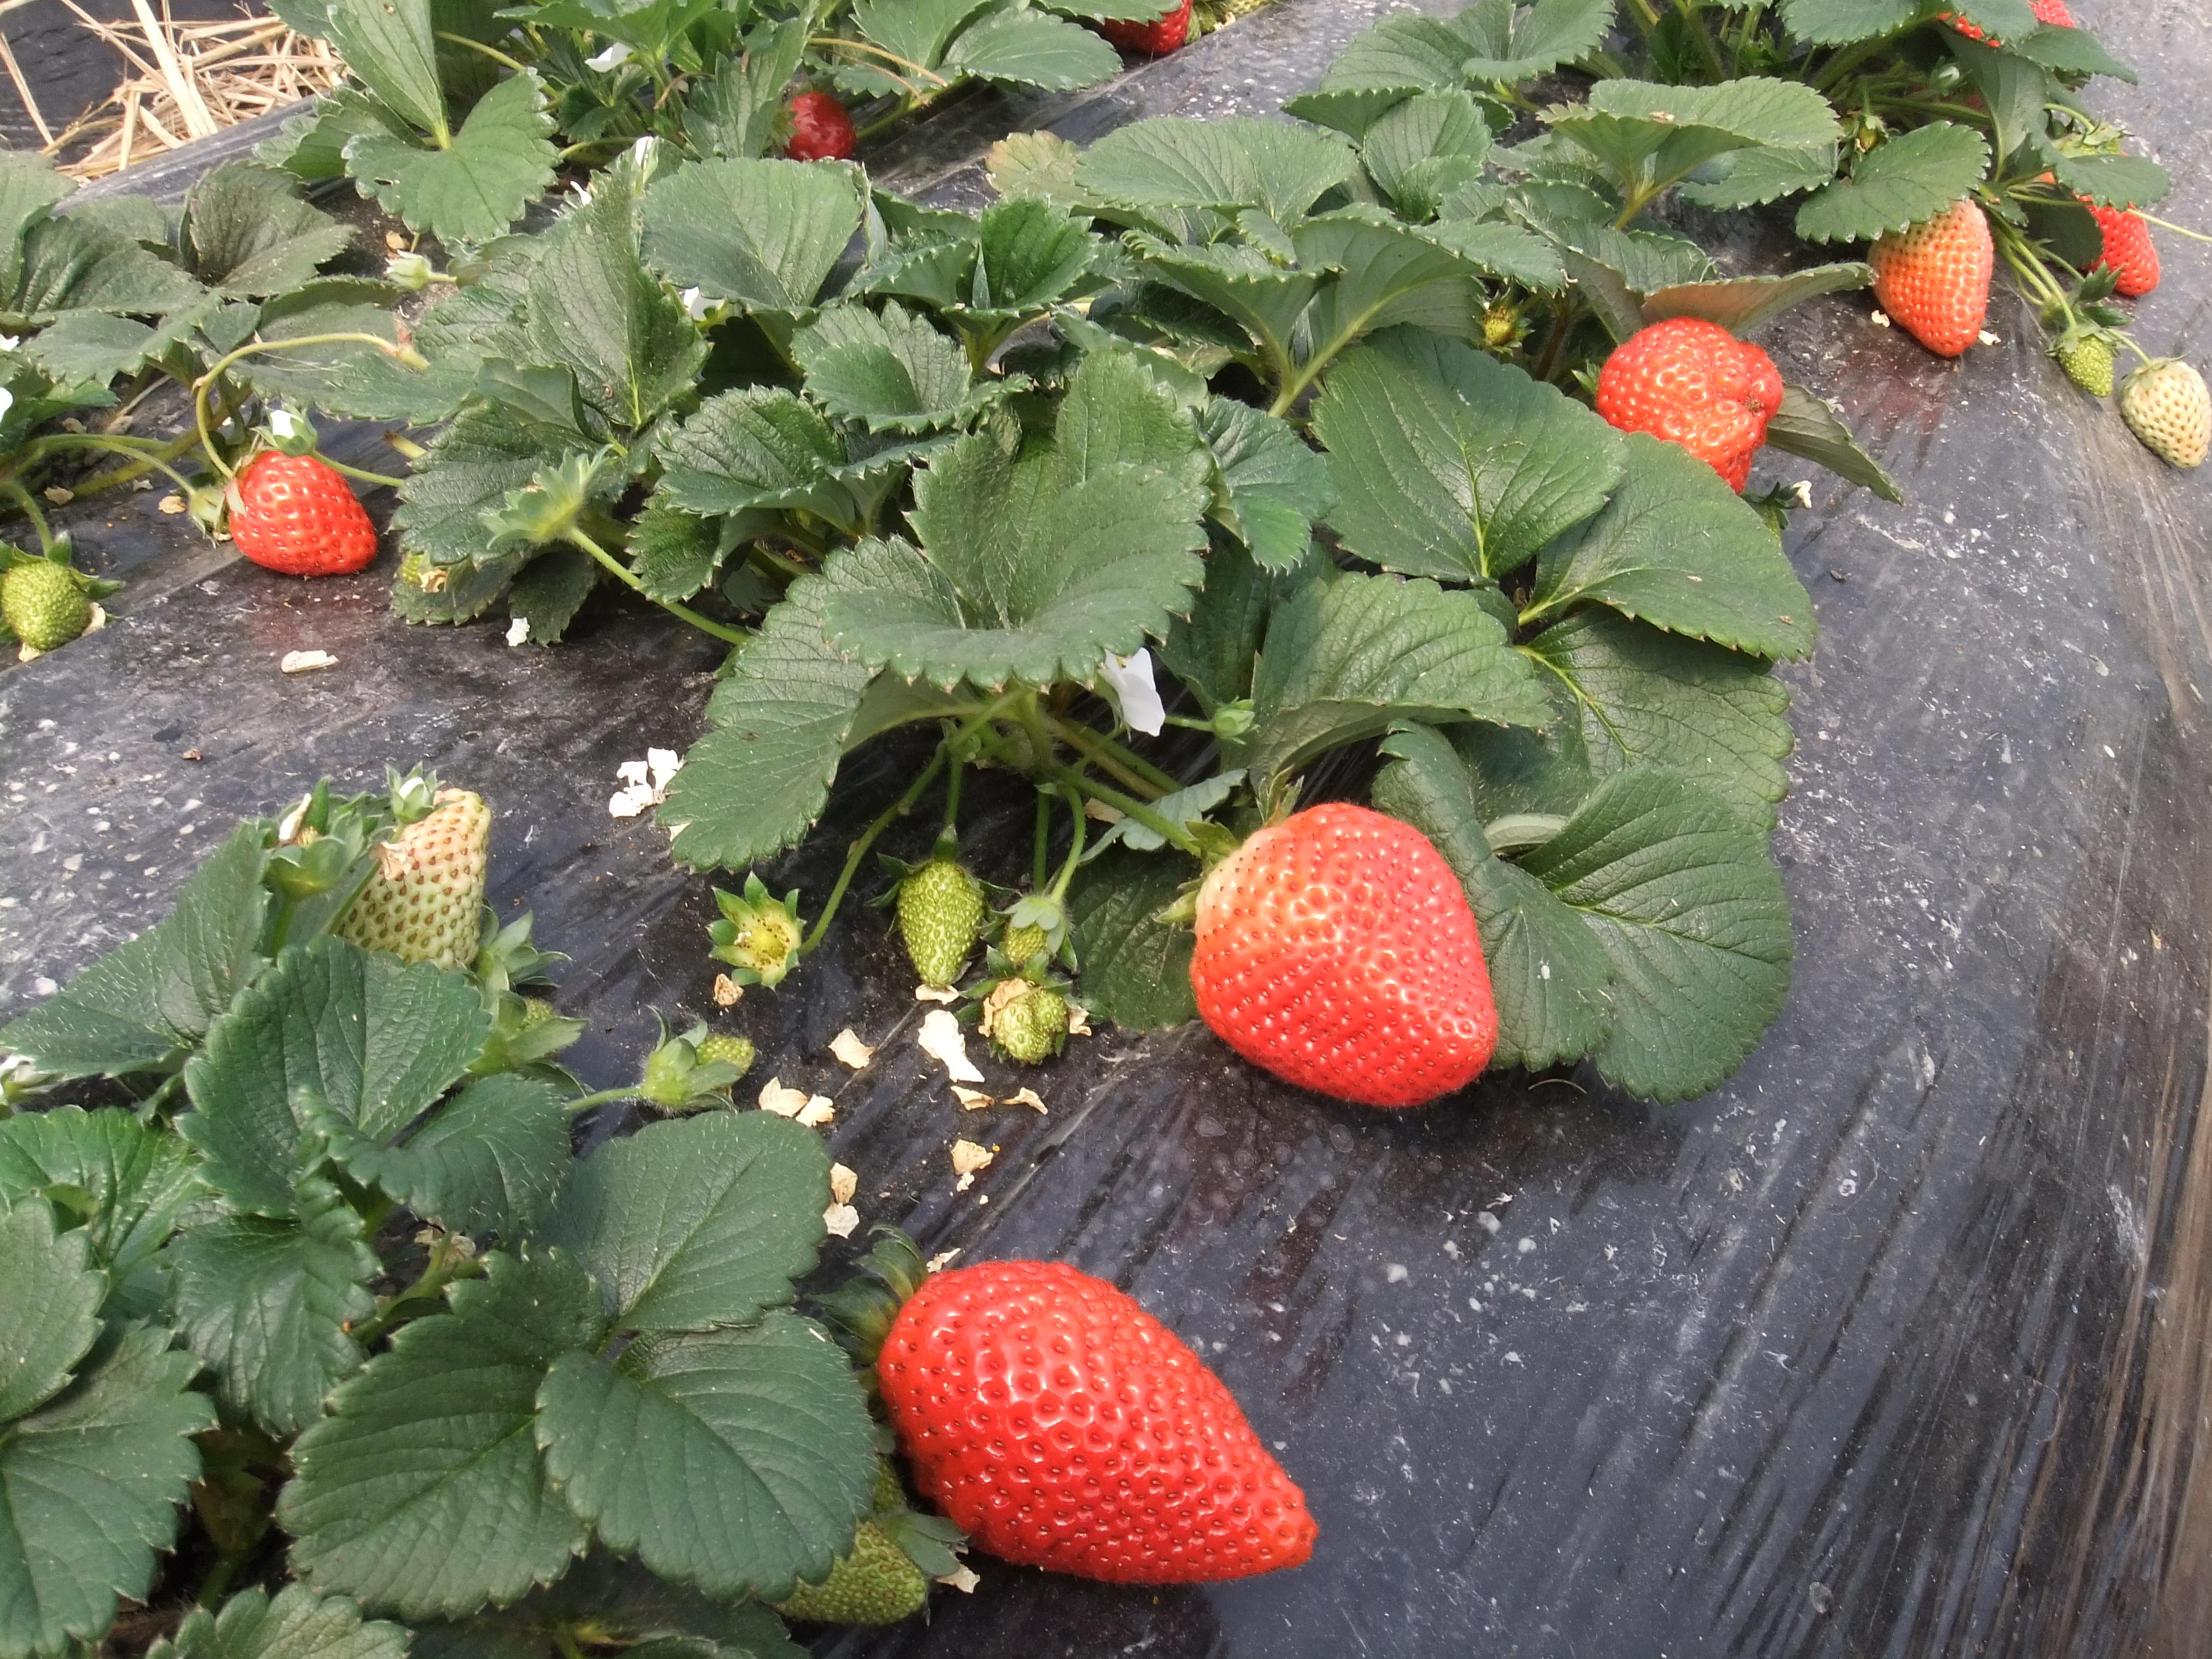StrawberryCone: (211, 432, 388, 589)
StrawberryFusiform: (880, 1253, 1320, 1584), (1174, 789, 1522, 1112)
StrawberryIrremovable: (317, 774, 502, 986), (773, 1466, 939, 1626), (1862, 176, 1998, 362), (892, 856, 986, 990), (2121, 343, 2209, 484), (634, 1018, 761, 1114), (975, 979, 1078, 1075), (3, 551, 96, 650), (2047, 315, 2128, 410), (1001, 889, 1076, 965)
StrawberryOther: (2031, 122, 2172, 296), (756, 64, 867, 178)
StrawberryRemovable: (873, 1249, 1322, 1593), (1179, 800, 1519, 1112), (1594, 296, 1787, 502), (216, 437, 385, 584), (2033, 127, 2167, 296), (761, 77, 867, 171)
StrawberryWedge: (1588, 291, 1791, 507)
